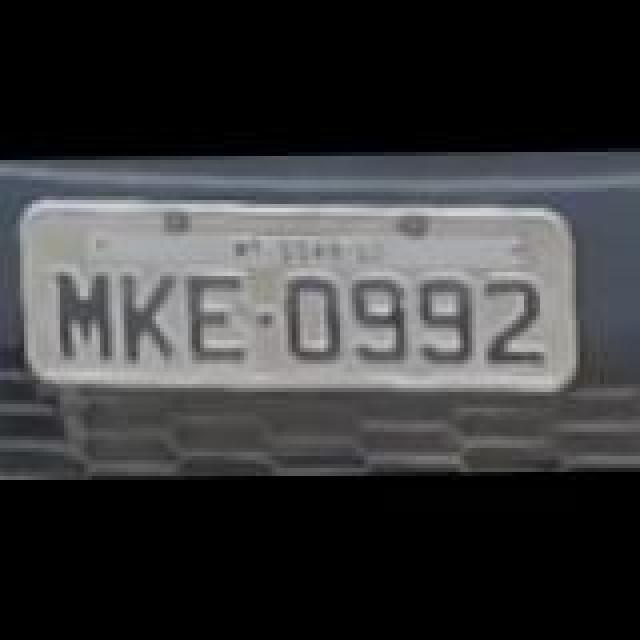2: (484, 282, 548, 370)
9: (416, 278, 480, 366), (354, 282, 414, 366)
D: (284, 276, 348, 364)
E: (188, 272, 252, 364)
K: (120, 272, 184, 364)
M: (58, 272, 118, 364)
